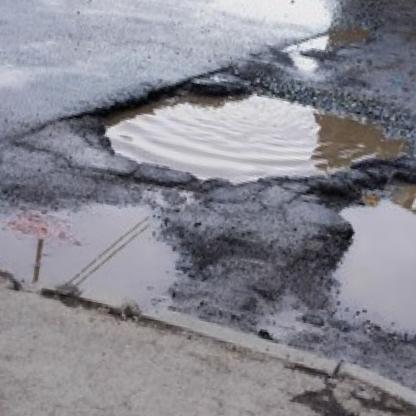pothole: (84, 50, 416, 213), (0, 166, 197, 323), (315, 140, 416, 360)
